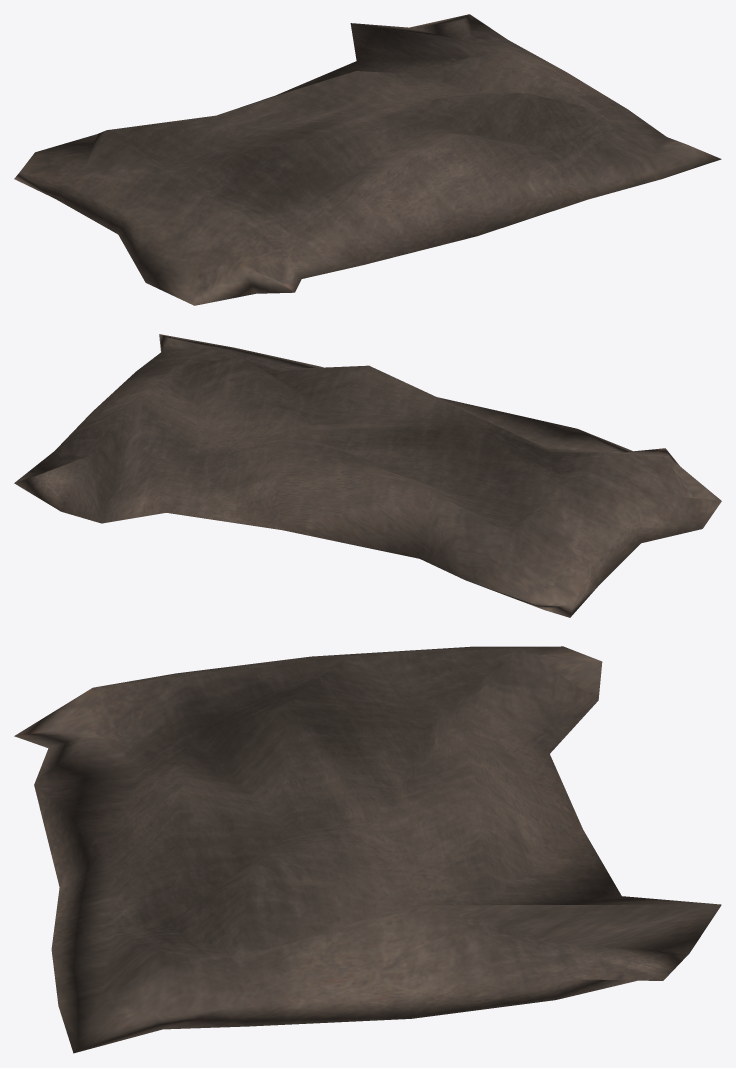
Rendered from DestroçosApenasChão3.fbx.
3 views of the same model, one above another, from view 1: azimuth 30°, elevation 25°; view 2: azimuth 150°, elevation 25°; view 3: azimuth 270°, elevation 25° (orthographic). The views are drawn at different scales.
Parts seen in each view (by area): view 1: DestroçoChão5; view 2: DestroçoChão5; view 3: DestroçoChão5.
Part boxes in pixels (box(x1,y1,x2,y2)): DestroçoChão5: box(14, 14, 721, 305); DestroçoChão5: box(14, 334, 721, 617); DestroçoChão5: box(14, 646, 721, 1053).
Size of the model in its own units: 2371 by 325 by 1751.
